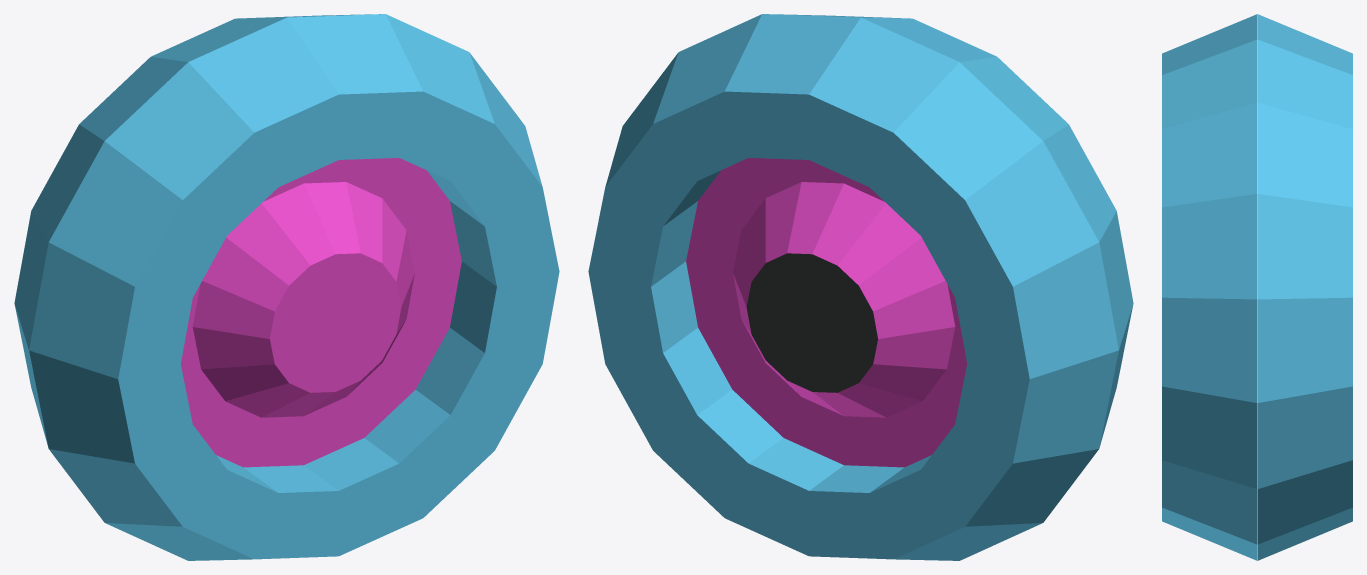
Rendered from MYBIODADHATESME (TIRE).glb.
The picture shows the model from 3 angles, left to right: view 1: azimuth 30°, elevation 25°; view 2: azimuth 150°, elevation 25°; view 3: azimuth 270°, elevation 25°; orthographic projection. The views are drawn at different scales.
Parts seen in each view (by area): view 1: tirererer; view 2: tirererer; view 3: tirererer.
Part boxes in pixels (x1,y1,x2,y2): tirererer: (14, 14, 559, 560); tirererer: (588, 14, 1133, 560); tirererer: (1162, 14, 1352, 560).
Bounding box in the file's own units: 1.39 × 1.39 × 0.4846.
